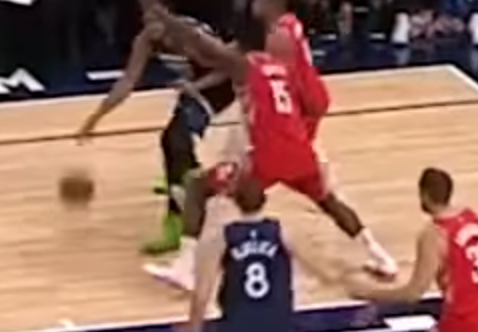basketball: (59, 171, 96, 209)
basketball player: (114, 15, 207, 255), (211, 184, 338, 332), (385, 163, 478, 332), (218, 7, 300, 179)
